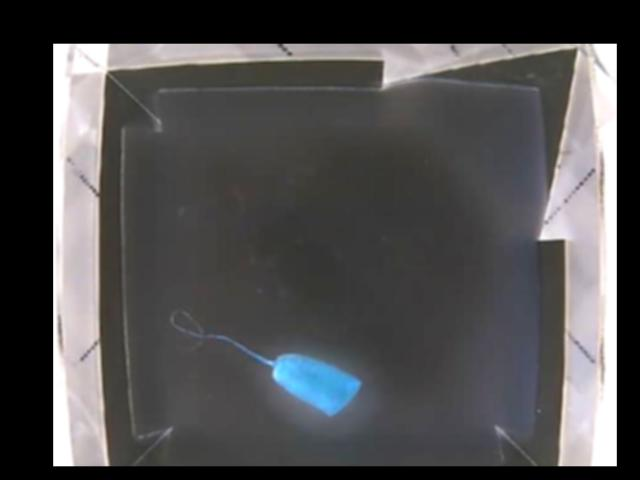Carrot: (264, 350, 360, 413)
